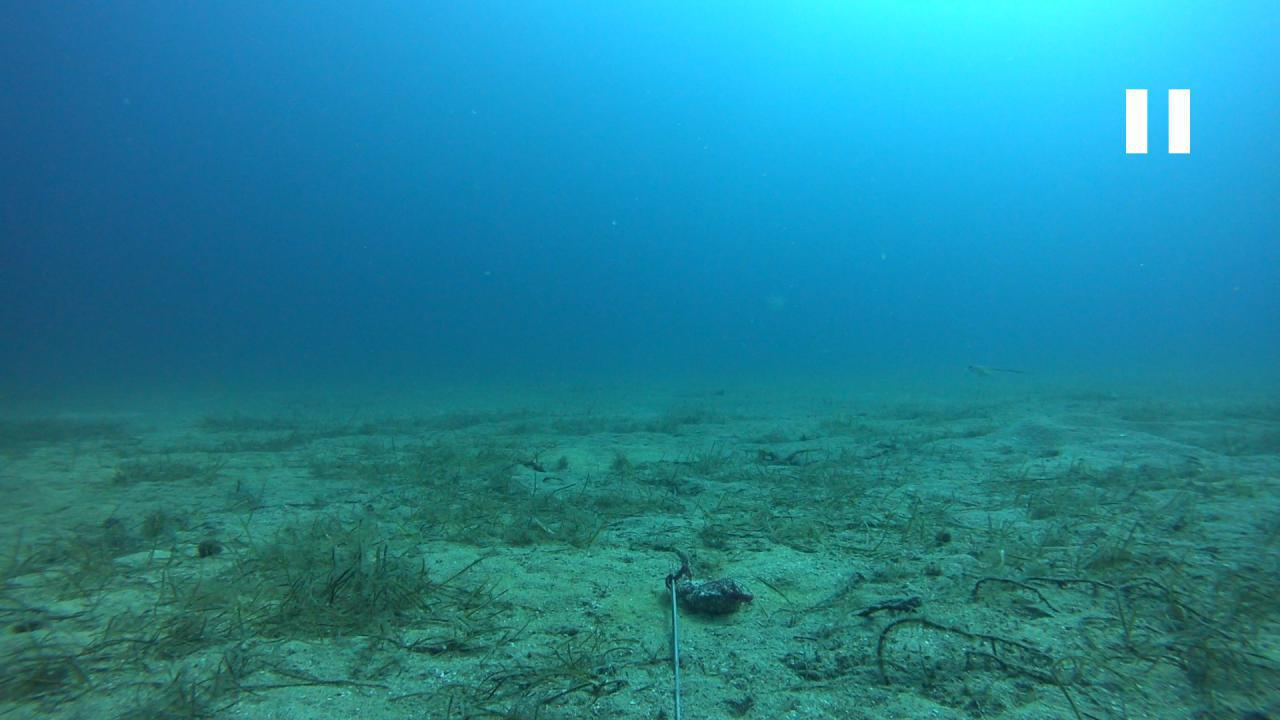dasyatis: (965, 362, 1028, 378)
